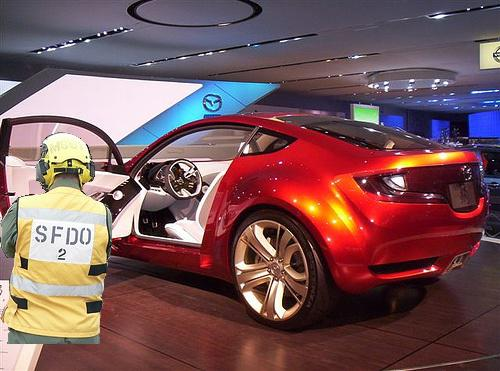tampered: (1, 133, 112, 344)
